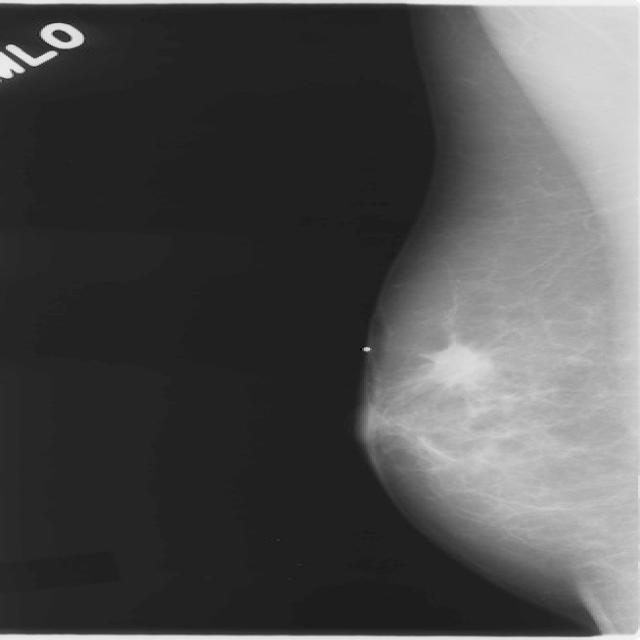tumour: (425, 342, 483, 387)
